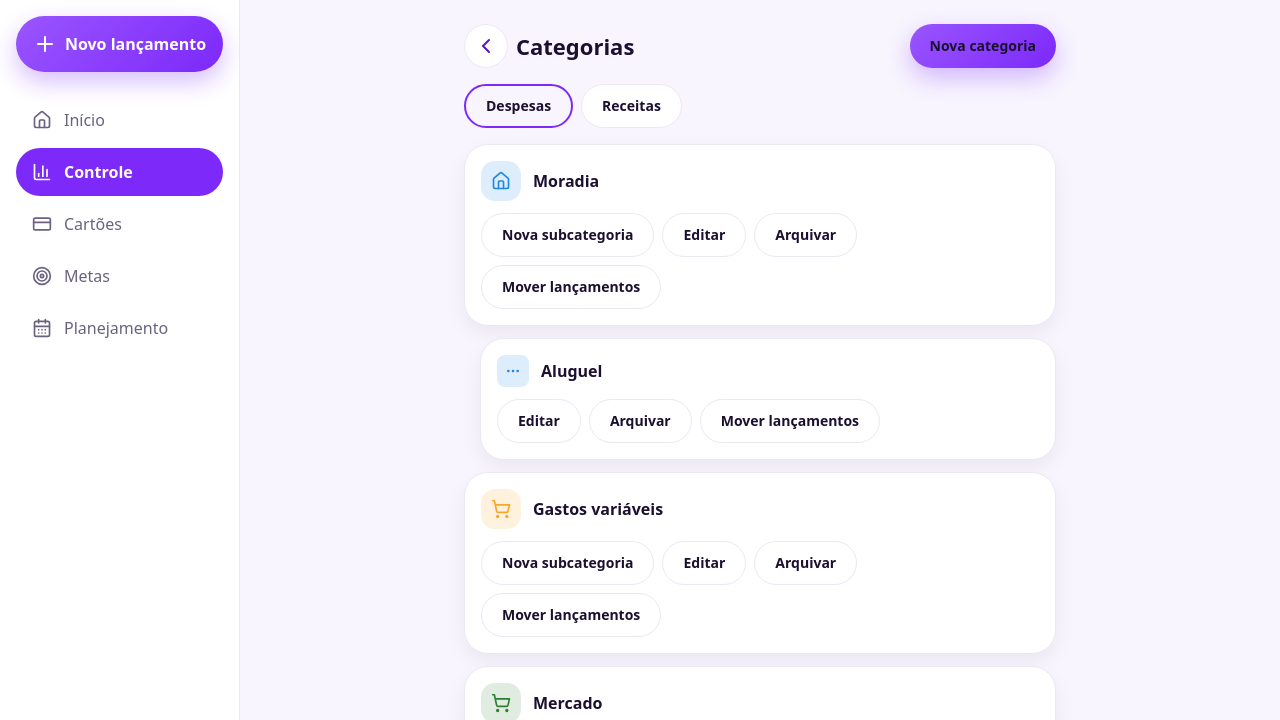
Categorias: lista (CA-2.07, CA-2.08) › a aba Receitas consulta o tipo receita e mostra Salário
This screenshot has width=1280, height=720.
Expected: the text "Moradia" is shown, [533,170,599,192]
Click the button "Receitas": (632,106) [581,84,682,128]
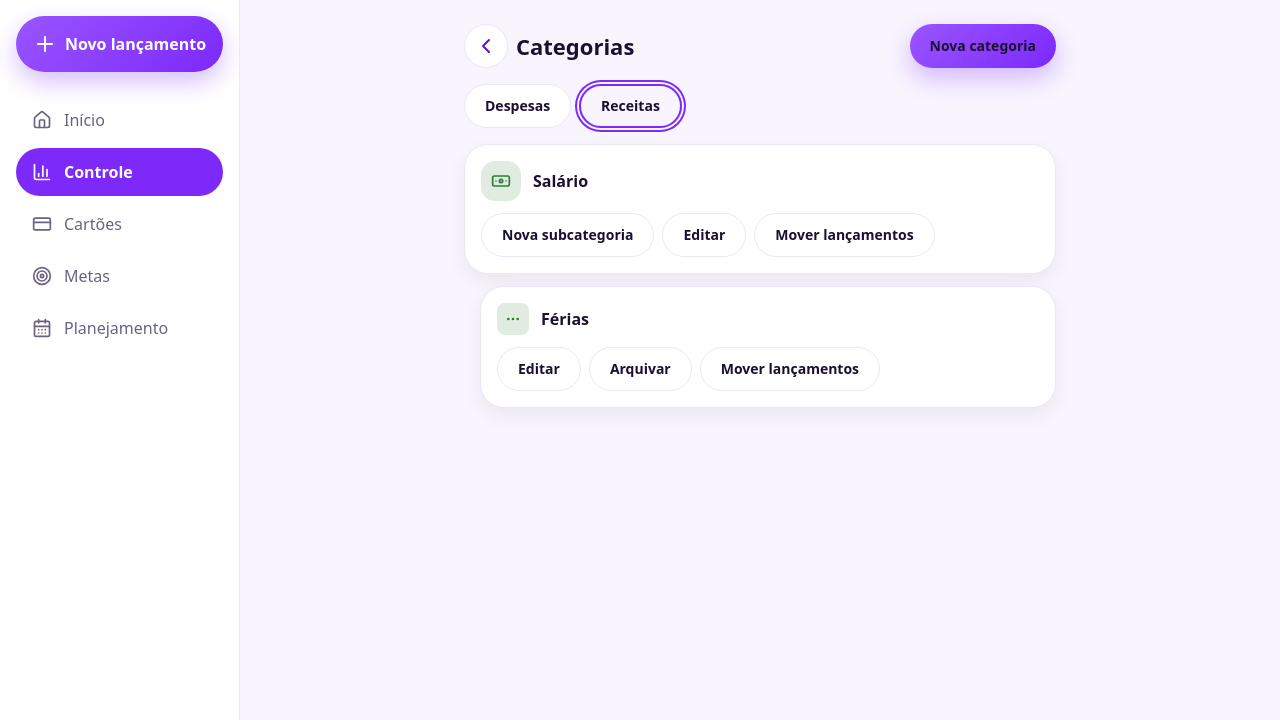
Expected: the text "Salário" is shown, [533,170,588,192]
Expected: the text "Moradia" is gone
